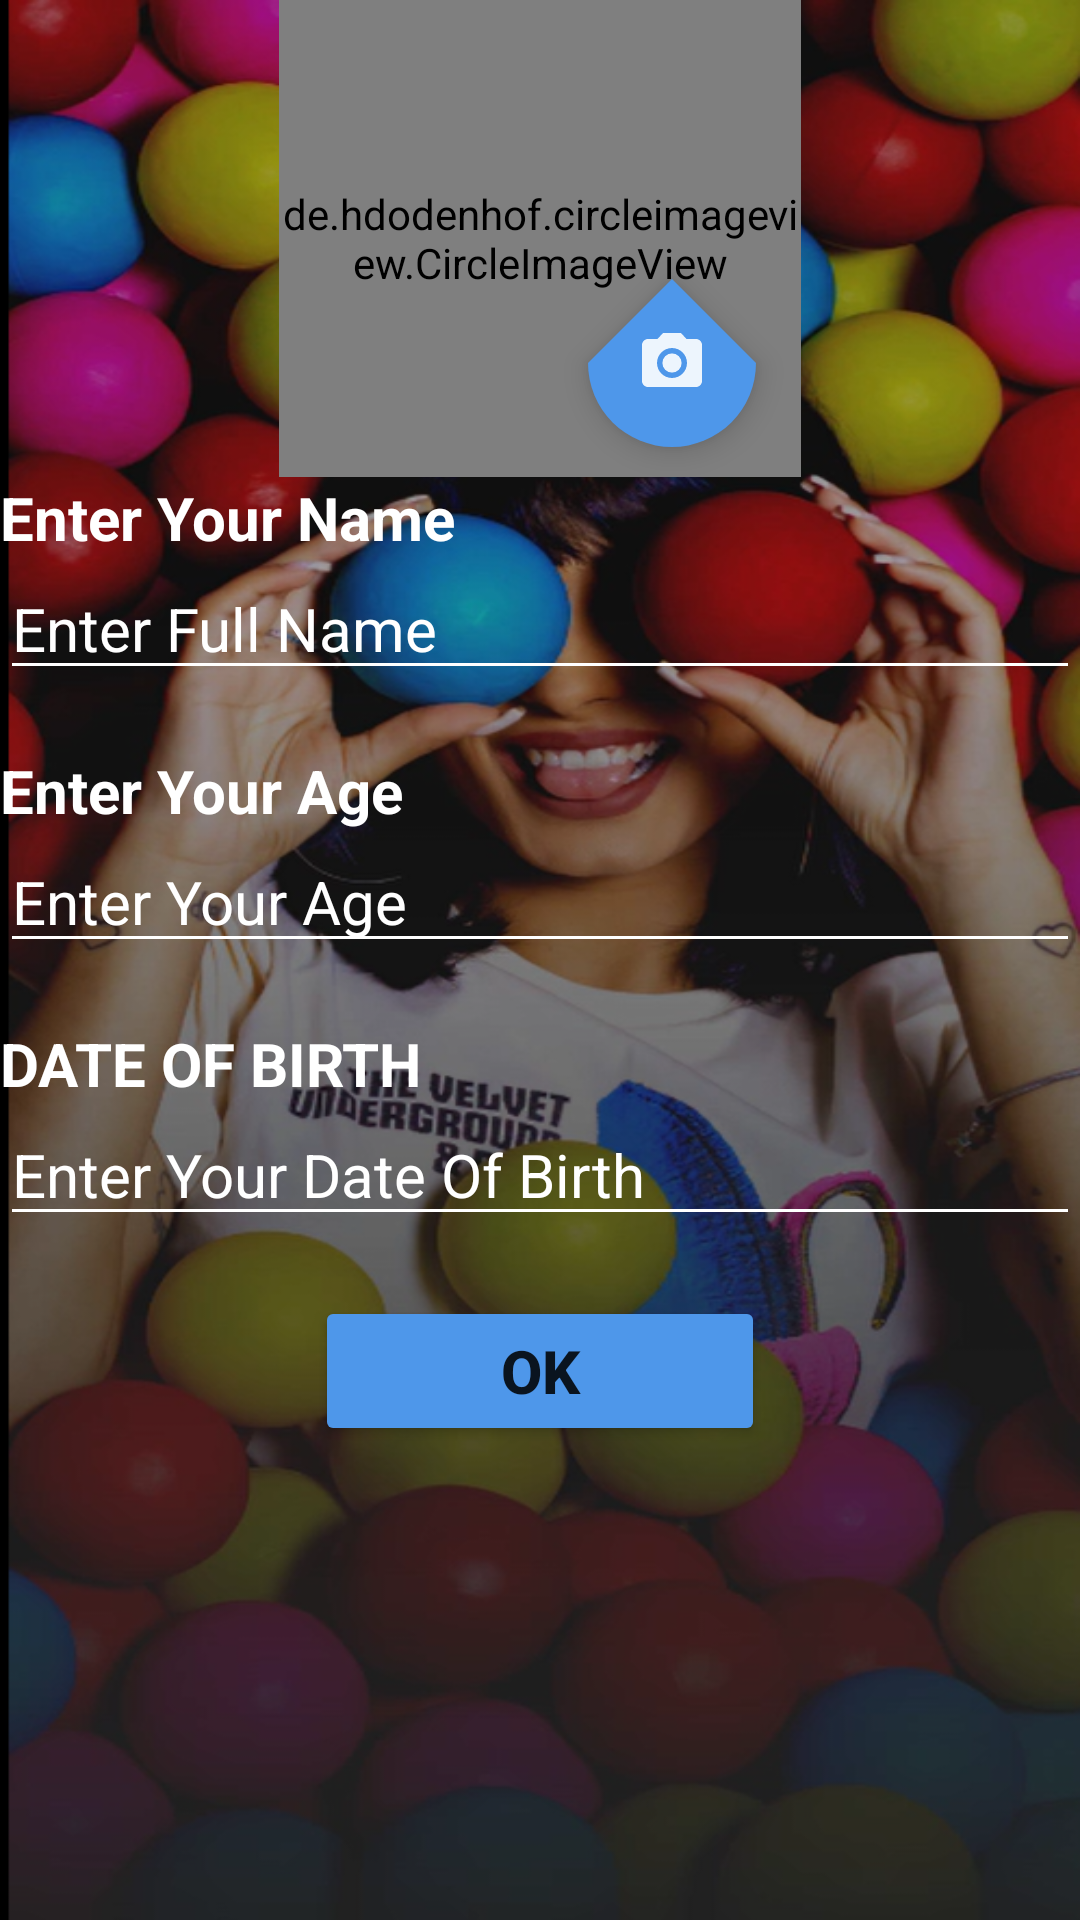

Screen size 1080×1920. Icon name, then its box in pixels as bbox=(x1, y1, x2, y2):
photo camera: bbox=(588, 279, 756, 447)
